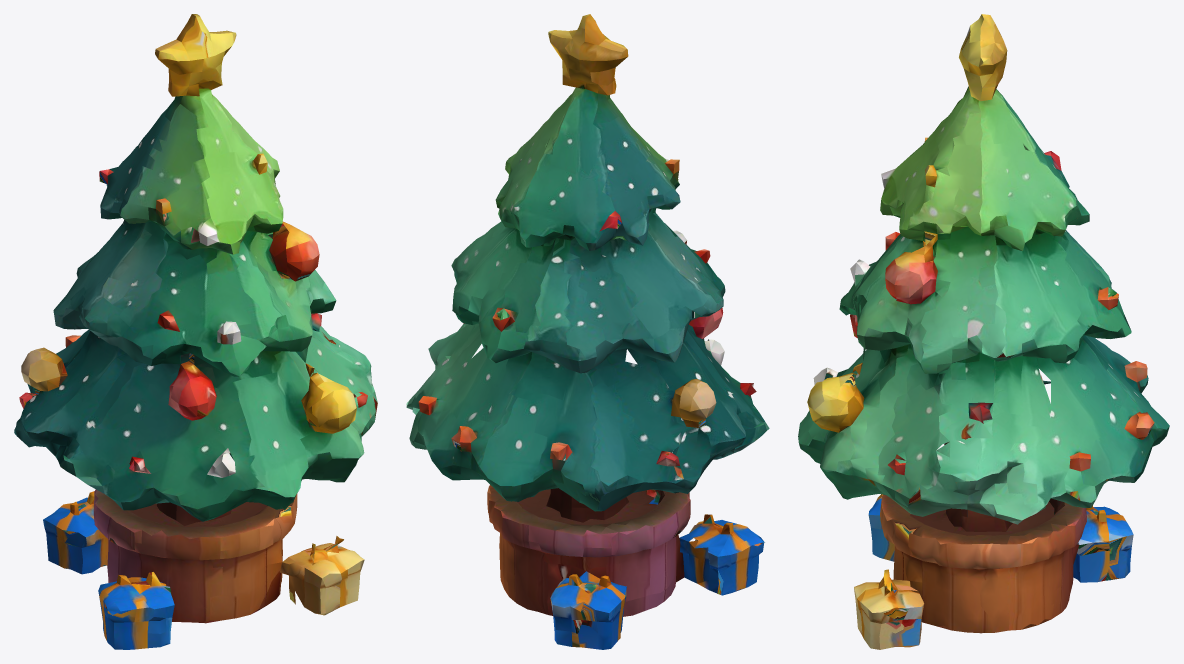
File: xsw_tree.glb
3 renders of one model, left to right at view 1: azimuth 30°, elevation 25°; view 2: azimuth 150°, elevation 25°; view 3: azimuth 270°, elevation 25°, orthographic. The views are drawn at different scales.
Parts seen in each view (by area): view 1: mesh_q; view 2: mesh_q; view 3: mesh_q.
Boxes of the visible parts, x1,y1,x2,y2 form: mesh_q: [14, 14, 377, 649]; mesh_q: [406, 14, 769, 649]; mesh_q: [798, 14, 1169, 649].
Size of the model in its own units: 58 by 97.24 by 55.95.
1 material, 1 textured.
